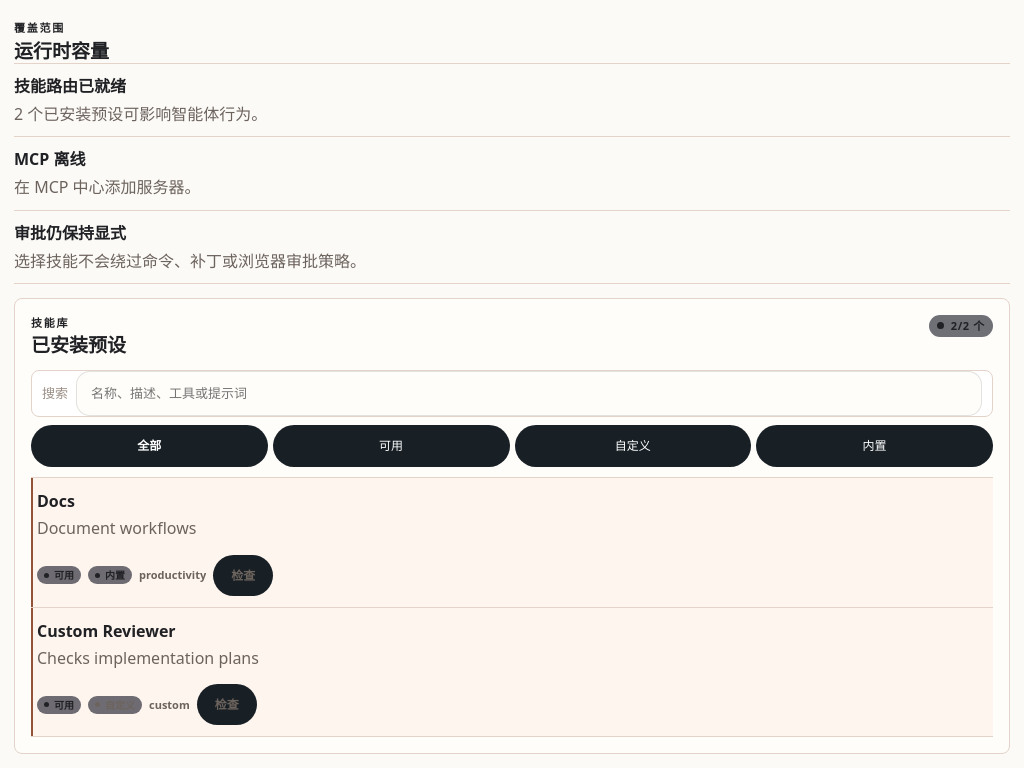
Test: SkillsWorkspace › filters installed skills by search text and type
(page scrolled)
Type "review" into the field named "搜索技能". click: (529,394)
box: [76,371,982,416]
(page scrolled)
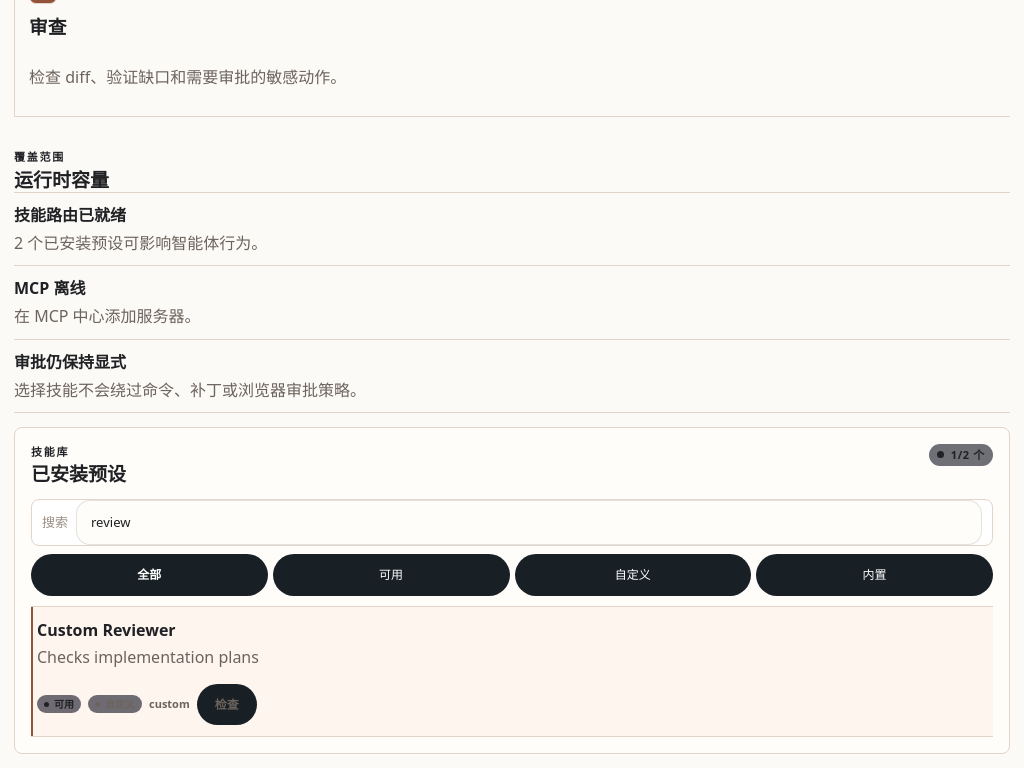
Expected: the text "Custom Reviewer" is shown, [37,619,176,641]
Expected: the text "Docs" is gone
Click the tab "内置". click: (875,575)
box: [756,554,993,596]
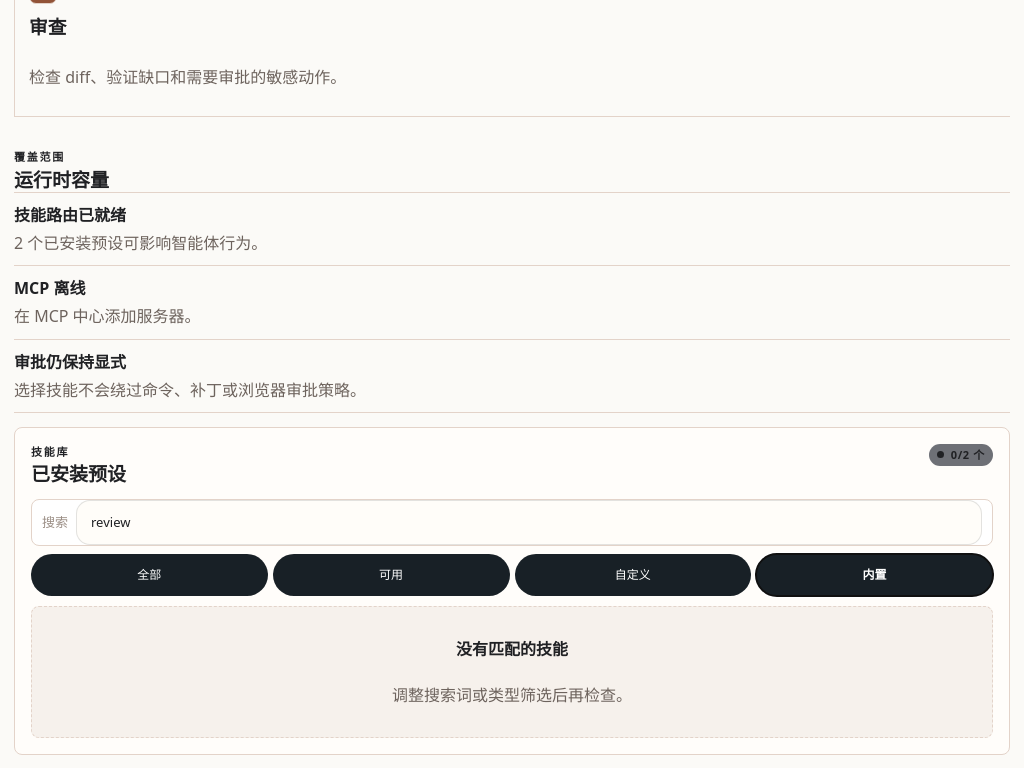
Expected: the text "Custom Reviewer" is gone
Expected: the text "没有匹配的技能" is shown, [456,637,568,661]
